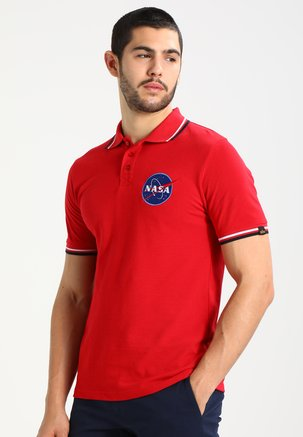NASA: (137, 168, 179, 208)
